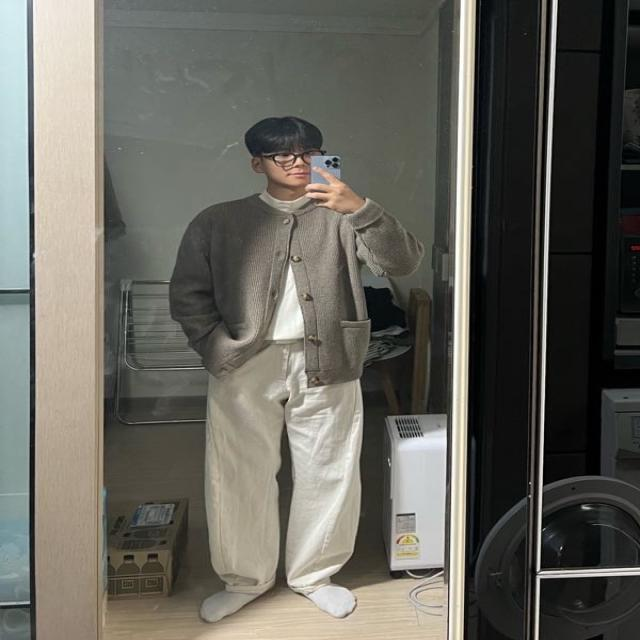cardigan: (167, 190, 412, 388)
cottonpants: (205, 338, 362, 591)
